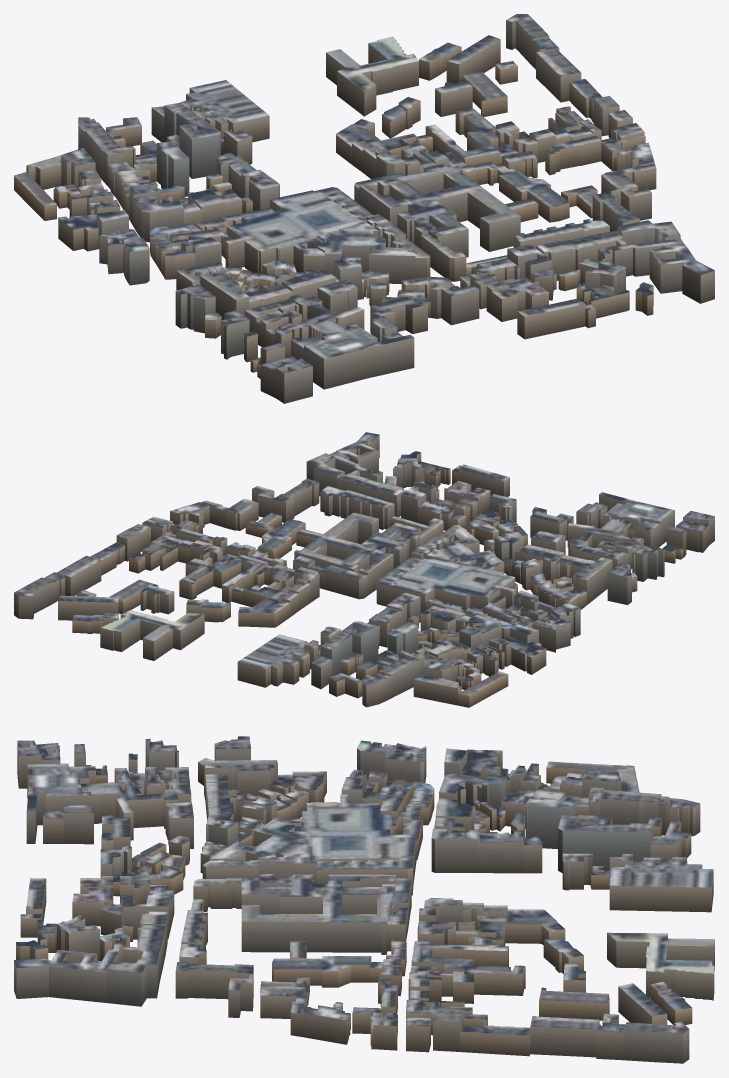
3 views of the same model, one above another, from view 1: azimuth 30°, elevation 25°; view 2: azimuth 150°, elevation 25°; view 3: azimuth 270°, elevation 25° (orthographic). The views are drawn at different scales.
Size of the model in its own units: 411 by 27.85 by 416.
Materials: 2 (2 with a texture image).
